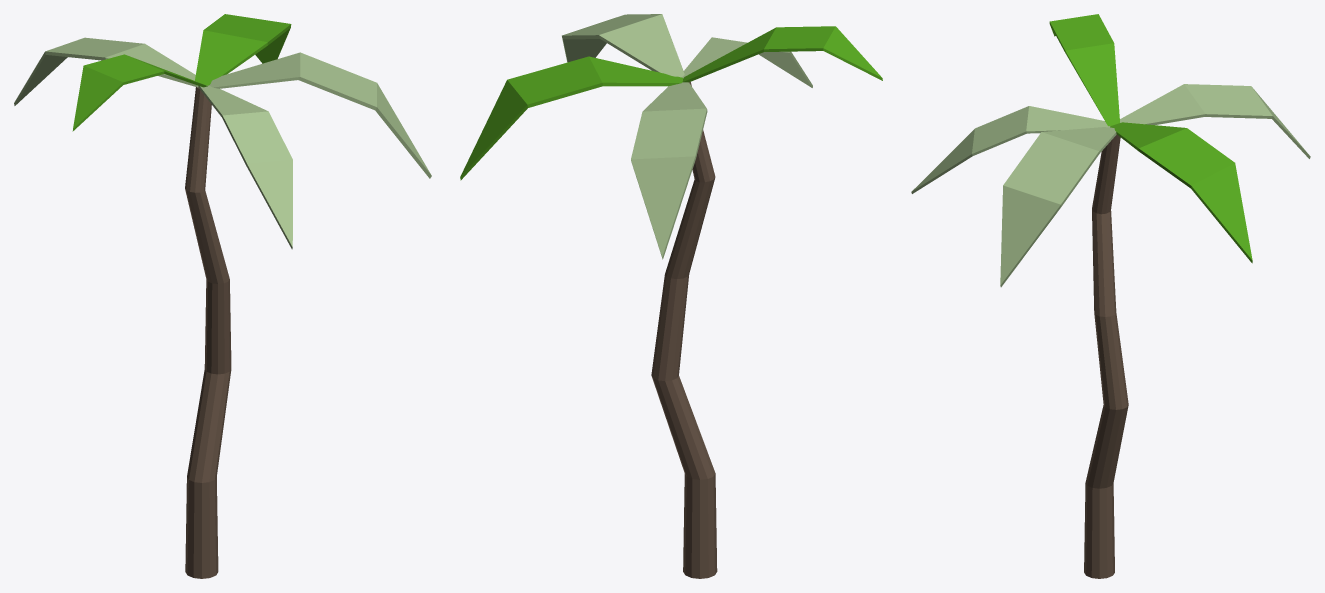
File: Isl_11_Palm_2.fbx
3 views of the same model, side by side, from view 1: azimuth 30°, elevation 25°; view 2: azimuth 150°, elevation 25°; view 3: azimuth 270°, elevation 25° (orthographic). The views are drawn at different scales.
Parts seen in each view (by area): view 1: Isl_11_Palm_2; view 2: Isl_11_Palm_2; view 3: Isl_11_Palm_2.
Part boxes in pixels (left/top/right/bottom): Isl_11_Palm_2: left=14, top=14, right=431, bottom=578; Isl_11_Palm_2: left=460, top=14, right=882, bottom=578; Isl_11_Palm_2: left=911, top=14, right=1310, bottom=578.
Size of the model in its own units: 267 by 298 by 415.
1 material, 1 textured.
